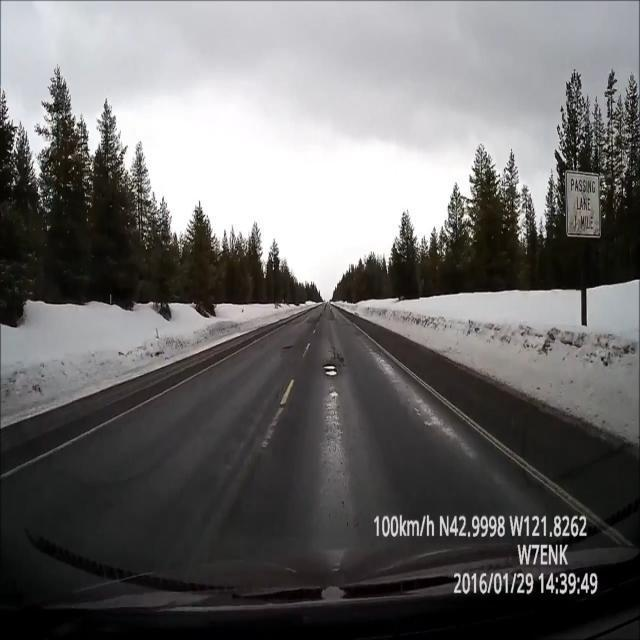Buraco: (321, 362, 339, 378)
